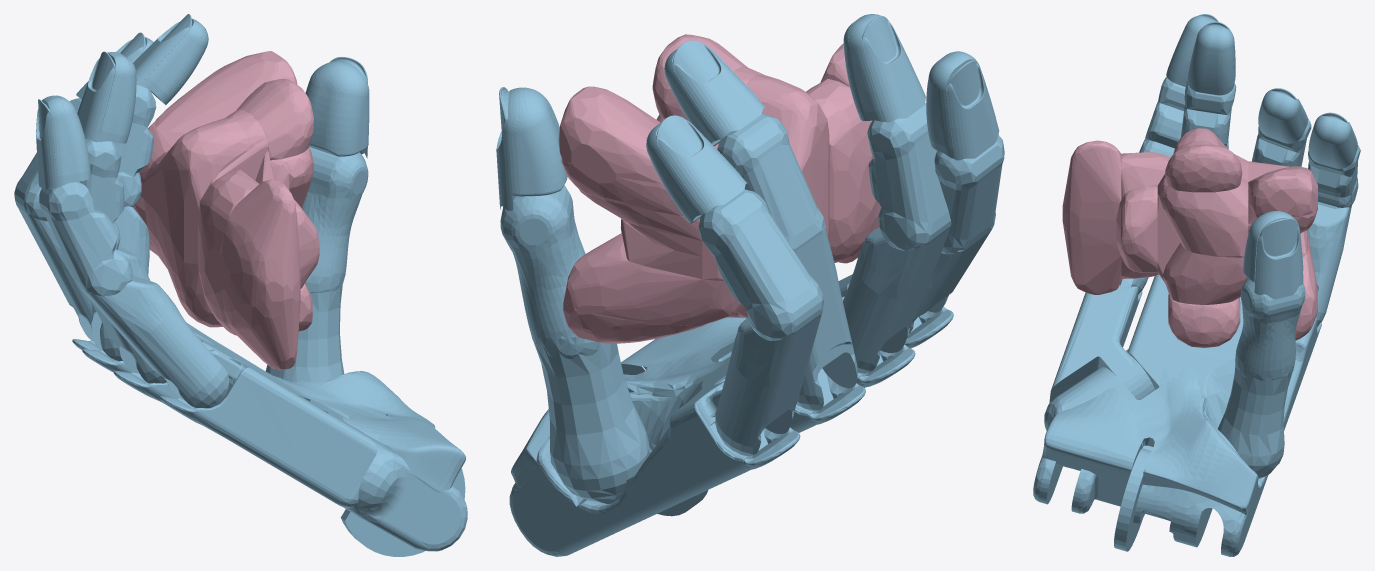
The picture shows the model from 3 angles, left to right: view 1: azimuth 30°, elevation 25°; view 2: azimuth 150°, elevation 25°; view 3: azimuth 270°, elevation 25°; orthographic projection. The views are drawn at different scales.
Parts seen in each view (by area): view 1: hand_isaac_q, world; view 2: hand_isaac_q, world; view 3: hand_isaac_q, world.
Boxes of the visible parts, x1,y1,x2,y2 form: hand_isaac_q: (14, 14, 467, 556); world: (133, 51, 319, 370); hand_isaac_q: (496, 14, 1004, 556); world: (558, 34, 881, 343); hand_isaac_q: (1033, 14, 1360, 556); world: (1062, 128, 1317, 347).
Bounding box in the file's own units: 0.1338 × 0.1725 × 0.1198.
